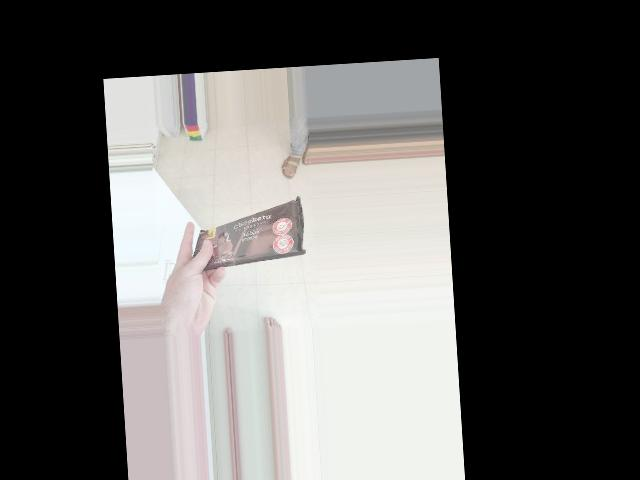chocolate: (180, 193, 311, 277)
